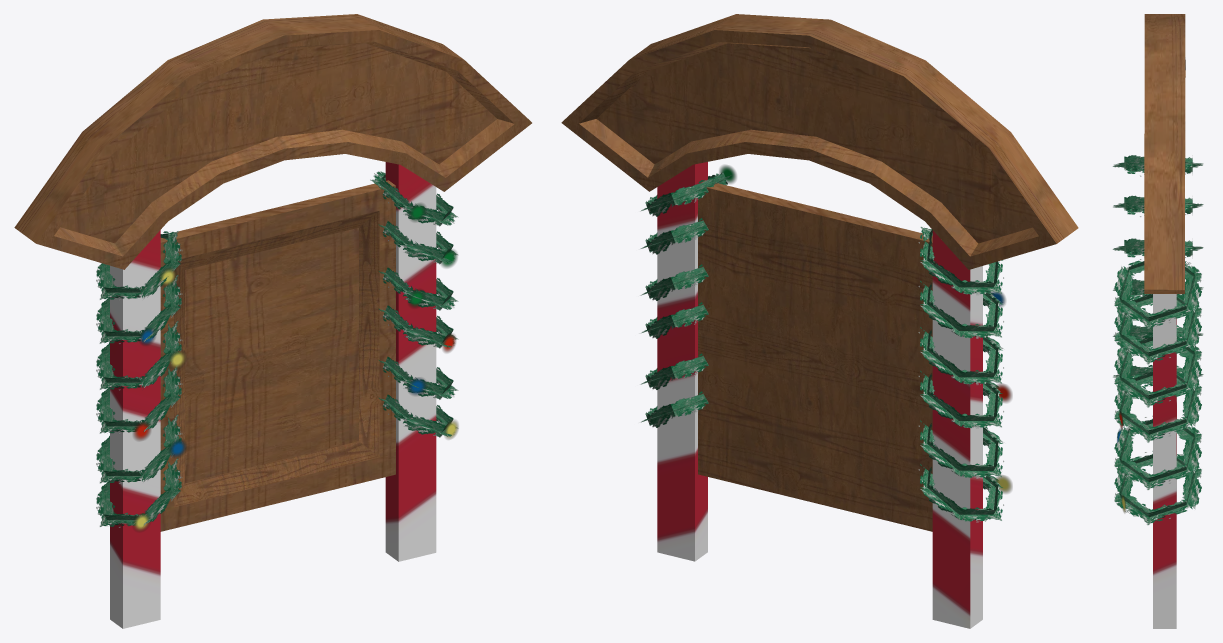
Rendered from wood-panel01.glb.
3 views of the same model, side by side, from view 1: azimuth 30°, elevation 25°; view 2: azimuth 150°, elevation 25°; view 3: azimuth 270°, elevation 25° (orthographic). The views are drawn at different scales.
Parts seen in each view (by area): view 1: WoodPanel01; view 2: WoodPanel01; view 3: WoodPanel01.
Boxes of the visible parts, left/top/right/bottom form: WoodPanel01: left=14, top=14, right=531, bottom=628; WoodPanel01: left=561, top=14, right=1078, bottom=628; WoodPanel01: left=1113, top=14, right=1203, bottom=628.
Bounding box in the file's own units: 2.86 × 3.08 × 0.5453.
Materials: 3 (3 with a texture image).
